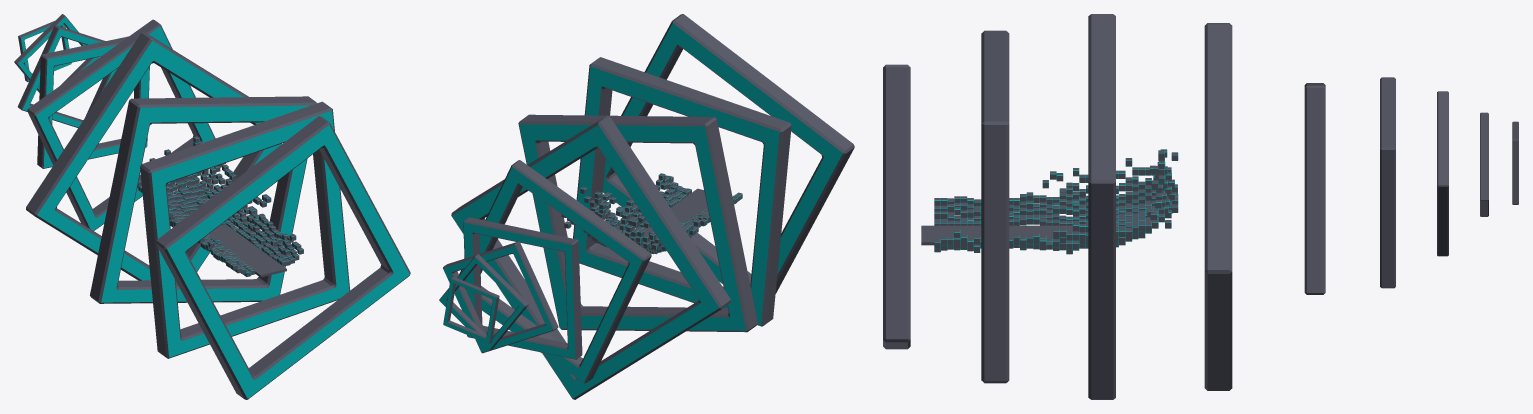
The model's file is stage09_2.fbx.
3 views of the same model, side by side, from view 1: azimuth 30°, elevation 25°; view 2: azimuth 150°, elevation 25°; view 3: azimuth 270°, elevation 25° (orthographic). The views are drawn at different scales.
Parts seen in each view (by area): view 1: polySurface4165, polySurface3762, pCube6, polySurface4153, polySurface4156, polySurface3983; view 2: polySurface4165, polySurface3762, polySurface3983, polySurface4153, pCube6, polySurface4156; view 3: polySurface4165, polySurface3762, polySurface3983, polySurface4153, polySurface4156, pCube6.
Boxes of the visible parts, x1,y1,x2,y2 form: polySurface4165: (14,14,410,399); polySurface3762: (137,136,236,213); pCube6: (208,224,286,277); polySurface4153: (210,233,303,276); polySurface4156: (173,213,280,252); polySurface3983: (169,194,271,236); polySurface4165: (439,14,854,399); polySurface3762: (561,186,666,254); polySurface3983: (591,192,707,252); polySurface4153: (655,173,742,214); pCube6: (641,188,707,237); polySurface4156: (616,199,710,227); polySurface4165: (883,14,1518,399); polySurface3762: (1119,149,1178,245); polySurface3983: (1053,168,1118,254); polySurface4153: (934,196,981,252); polySurface4156: (1009,171,1056,250); pCube6: (921,225,1079,245).
Bounding box in the file's own units: 5878 × 5878 × 9648.
